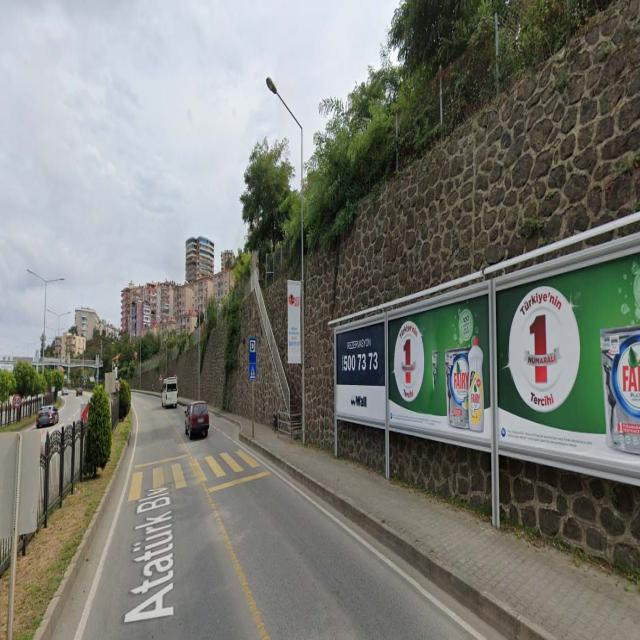durak: (250, 338, 256, 353)
